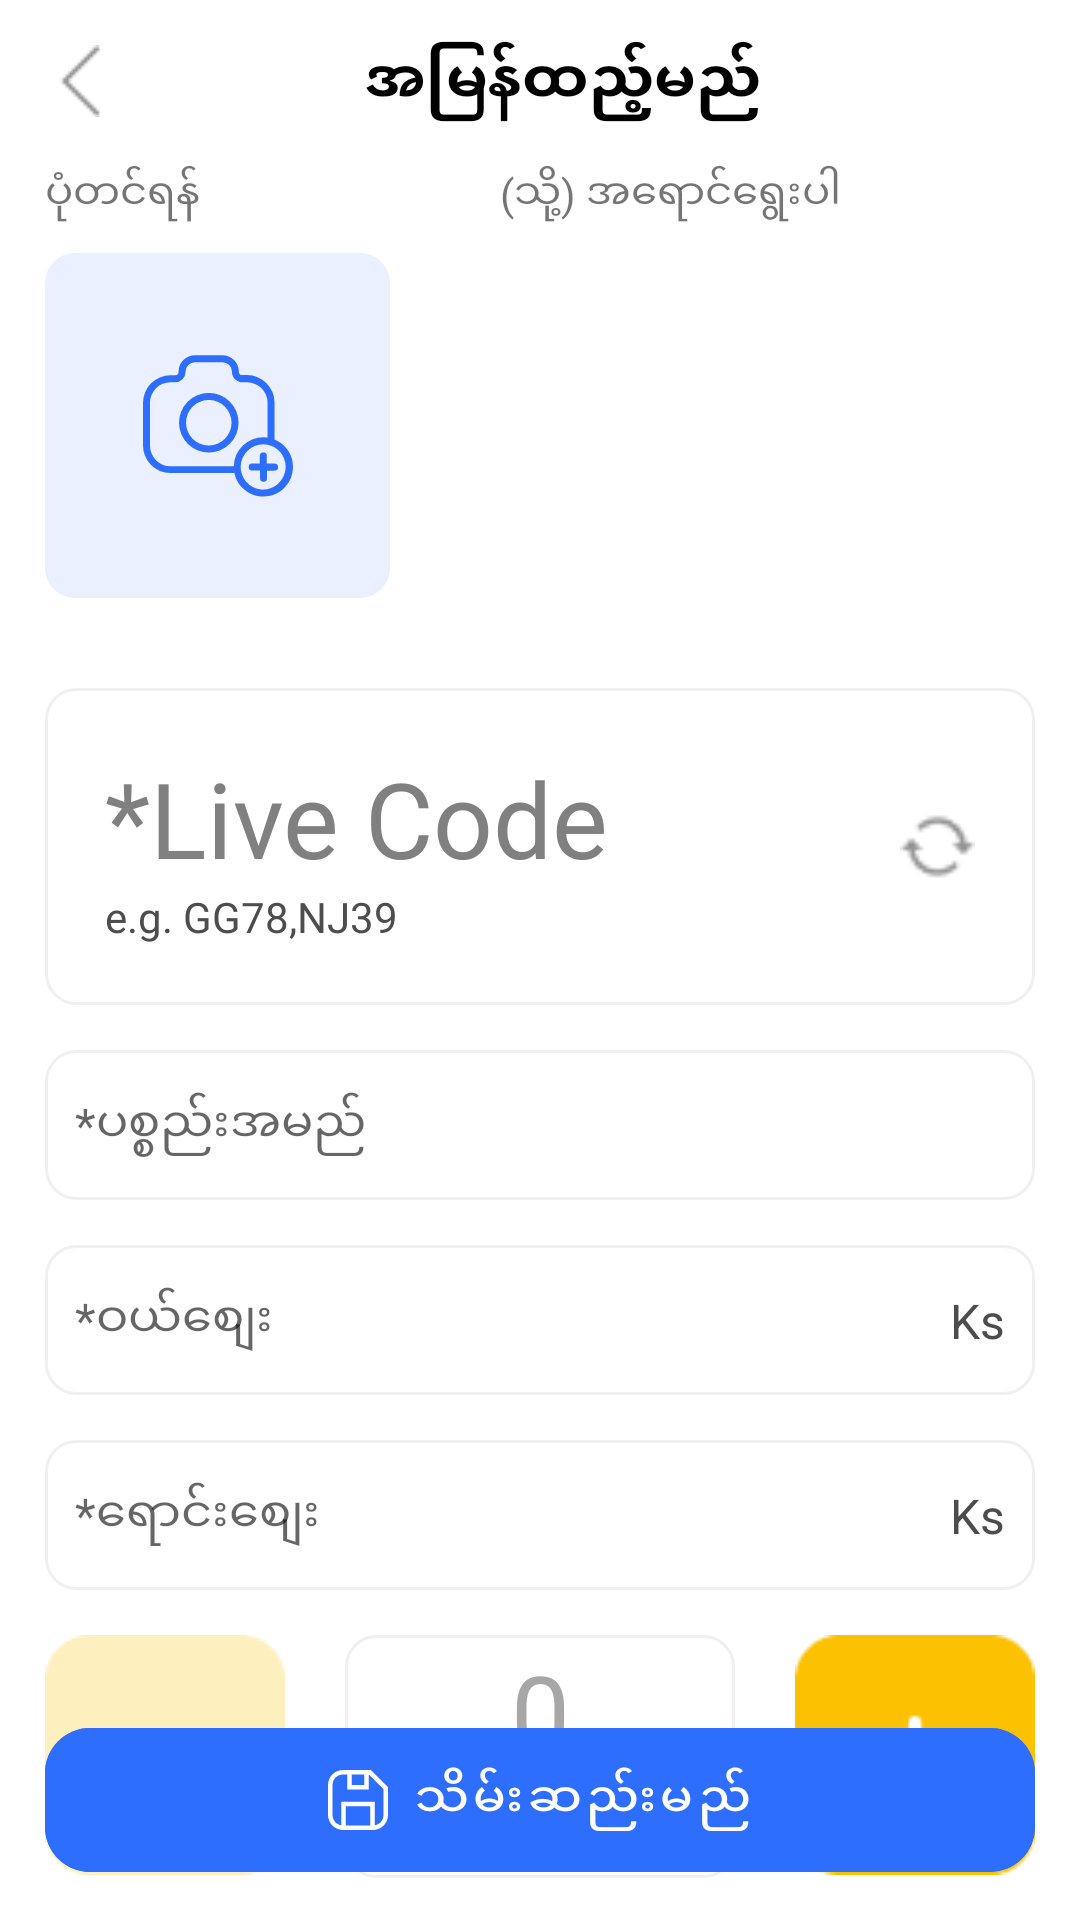

Icons on this 1080px x 1920px Android screen, each with its box as bbox=(x1, y1, x2, y2):
back: bbox=(62, 45, 100, 117)
camera: bbox=(143, 355, 293, 497)
refresh: bbox=(900, 816, 975, 877)
